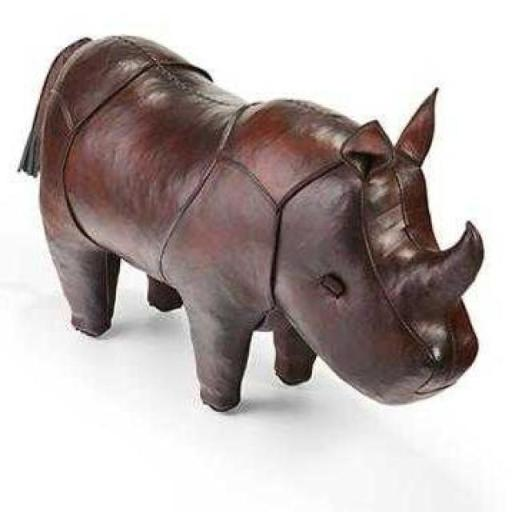Rhino: (16, 31, 485, 412)
